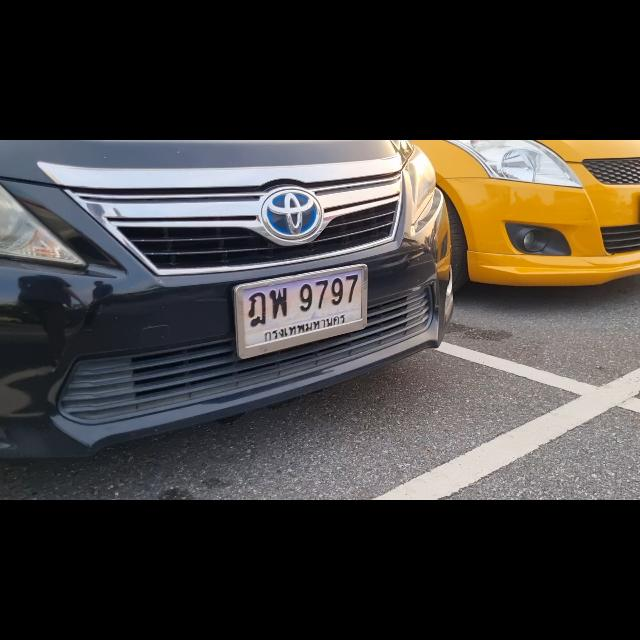licenseplate: (232, 264, 368, 358)
